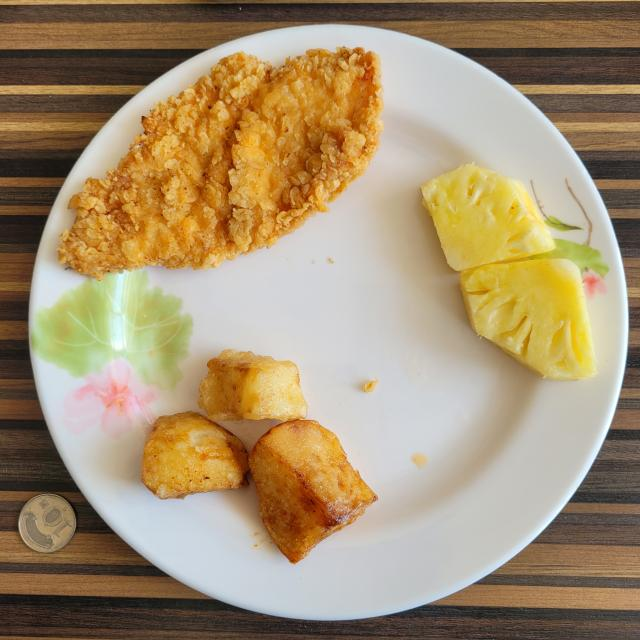coin: (19, 494, 76, 552)
fried chicken cutlet: (59, 48, 382, 280)
fried potato: (142, 350, 378, 564)
pineapple: (421, 164, 598, 380)
